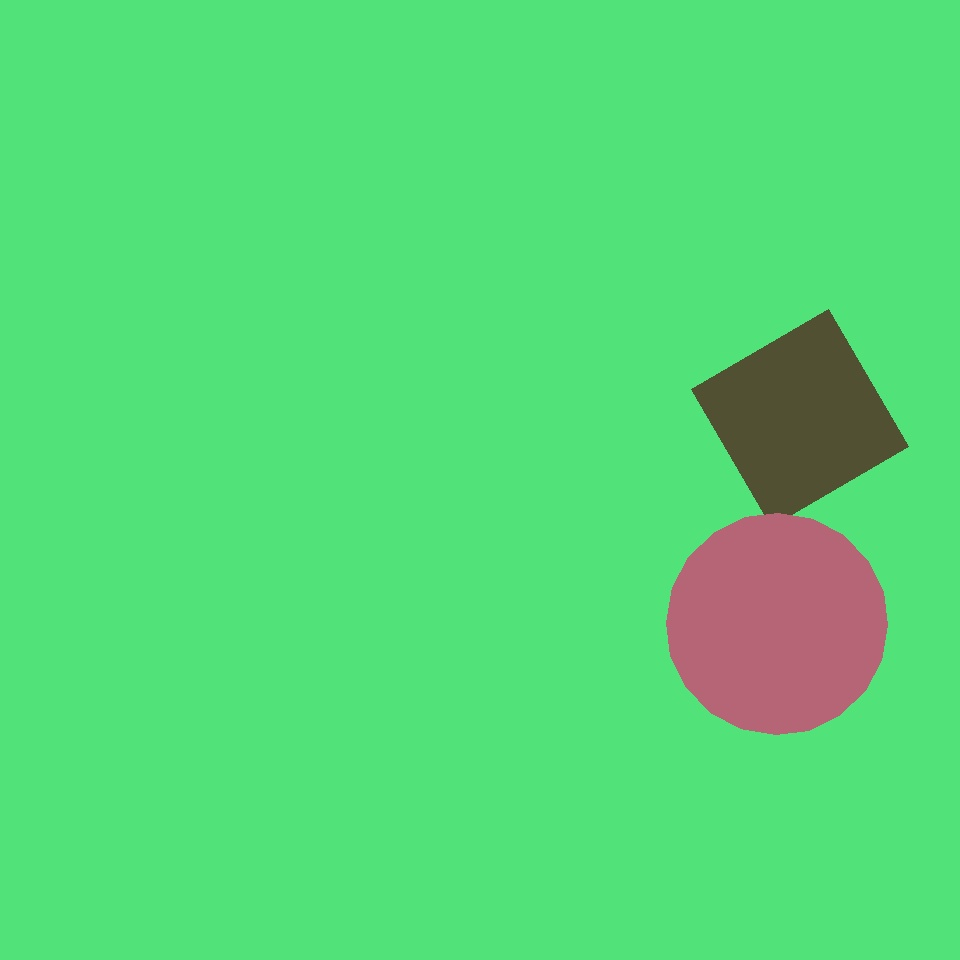square: (692, 310, 908, 526)
triangle: (666, 514, 888, 734)
